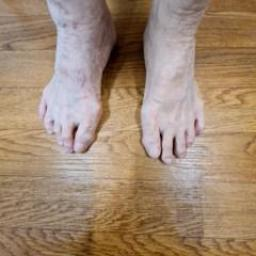Dorsal View -Both Feet-: (22, 2, 228, 181)
